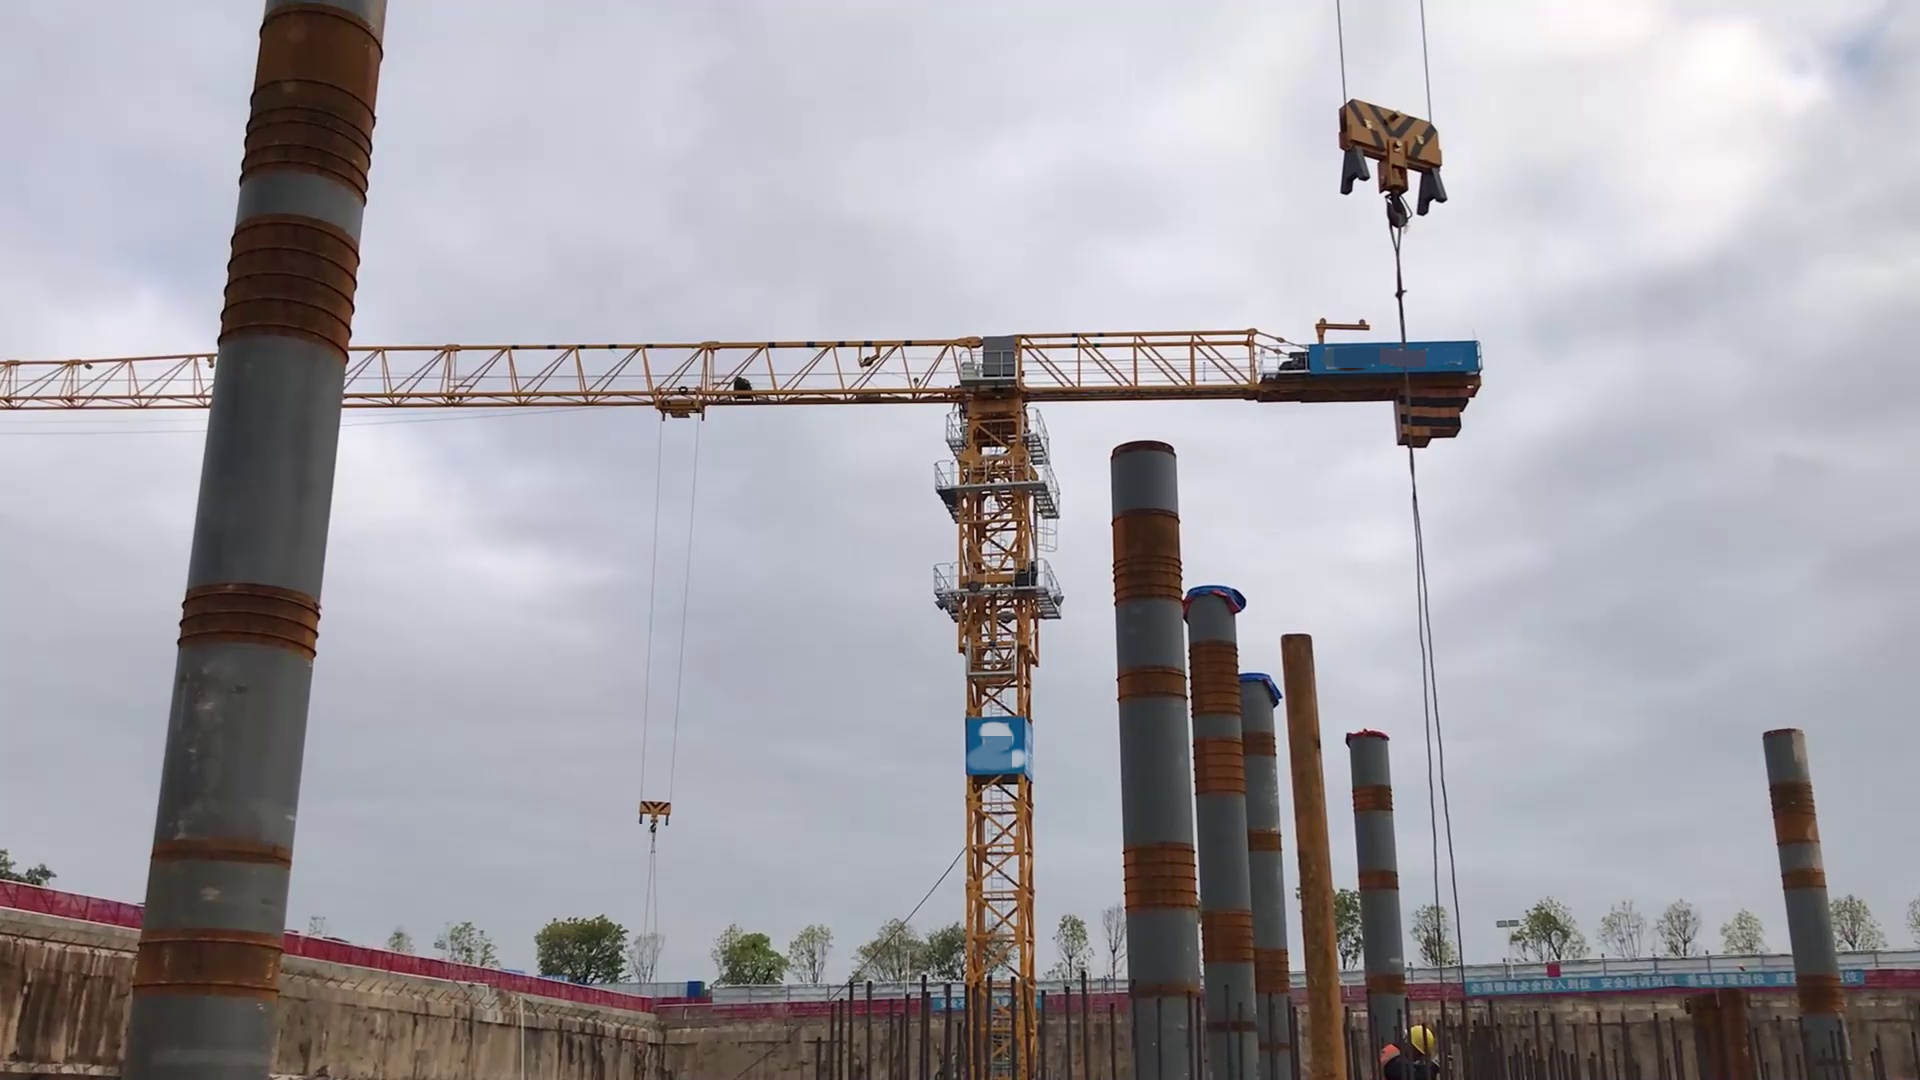helmet: (1402, 1025, 1435, 1055)
hook: (1329, 90, 1463, 243), (633, 795, 676, 837)
person: (1379, 1025, 1442, 1080)
slogan: (1465, 970, 1864, 995)
